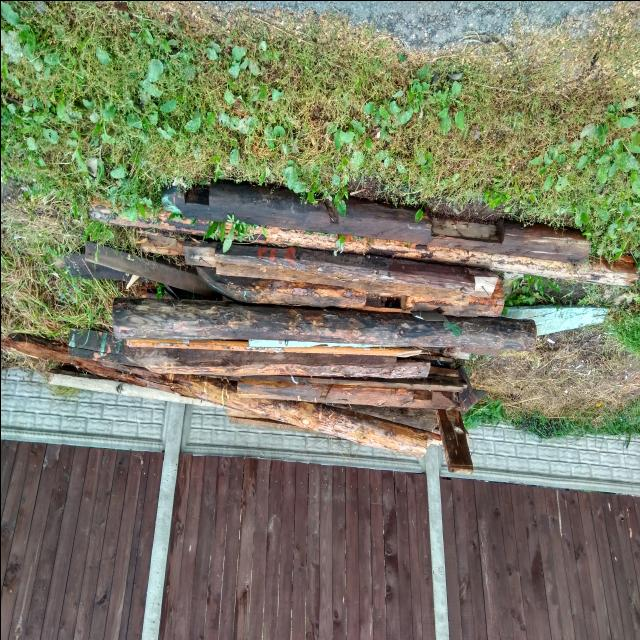restos de madeira: (160, 174, 592, 268), (112, 297, 548, 351), (236, 348, 474, 438), (191, 273, 505, 320), (82, 352, 238, 418), (498, 240, 638, 289), (320, 405, 428, 465), (64, 241, 186, 281), (89, 191, 194, 237), (0, 332, 92, 378), (70, 321, 141, 374), (434, 410, 474, 476)
